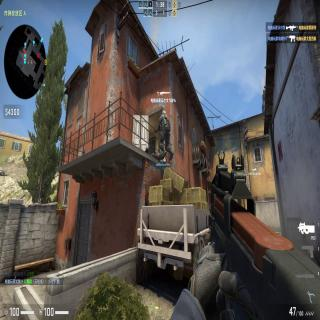CT-Body: (157, 109, 174, 161)
CT-Head: (162, 110, 166, 116)
